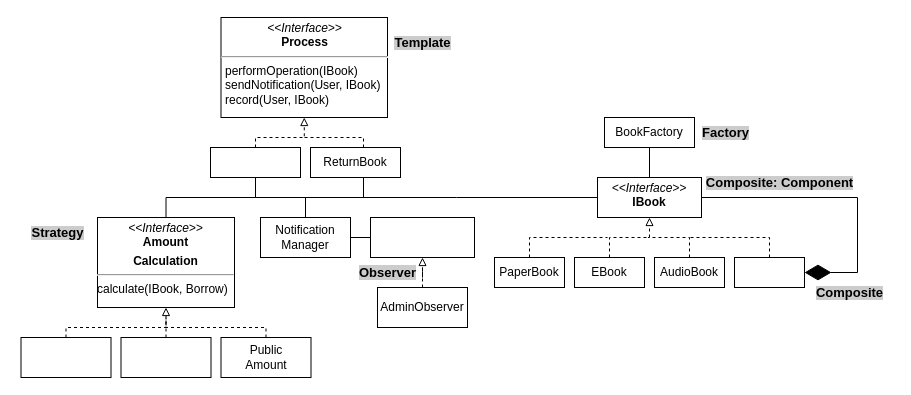
Image size: 911x395. Some labels were removed from this diagram. Each missing label, with the centre of its shape:
"<<Interface>> Observer" goes at point 422,237.
"BookSeries" goes at point 769,272.
"BorrowBook" goes at point 255,162.
"Professor Amount" goes at point 165,357.
"Student Amount" goes at point 65,357.
